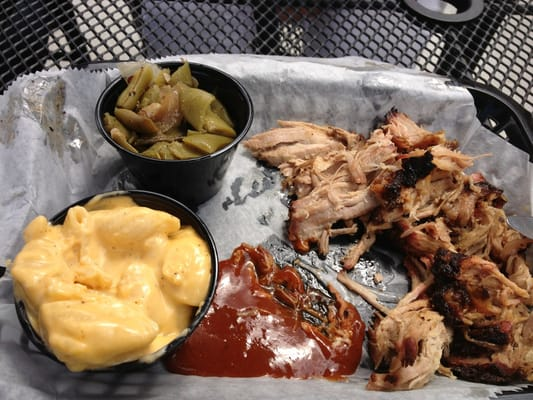sushi: (7, 188, 220, 375), (93, 61, 253, 207)
